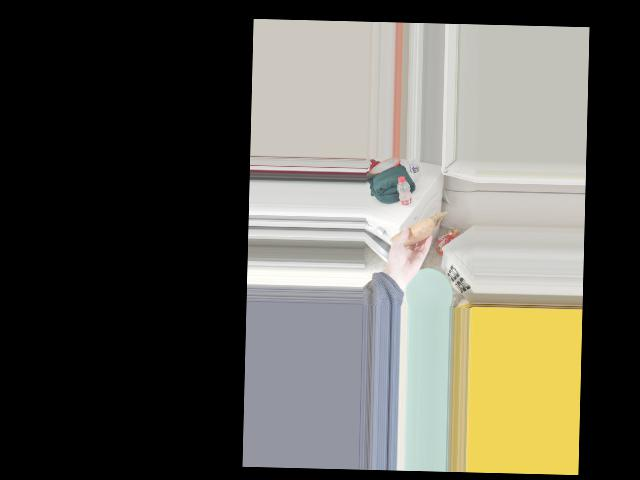sweet_potato: (399, 219, 433, 246)
